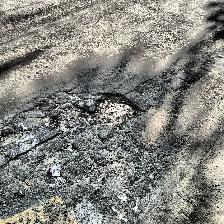pothole: (92, 91, 144, 127), (49, 105, 91, 131)
